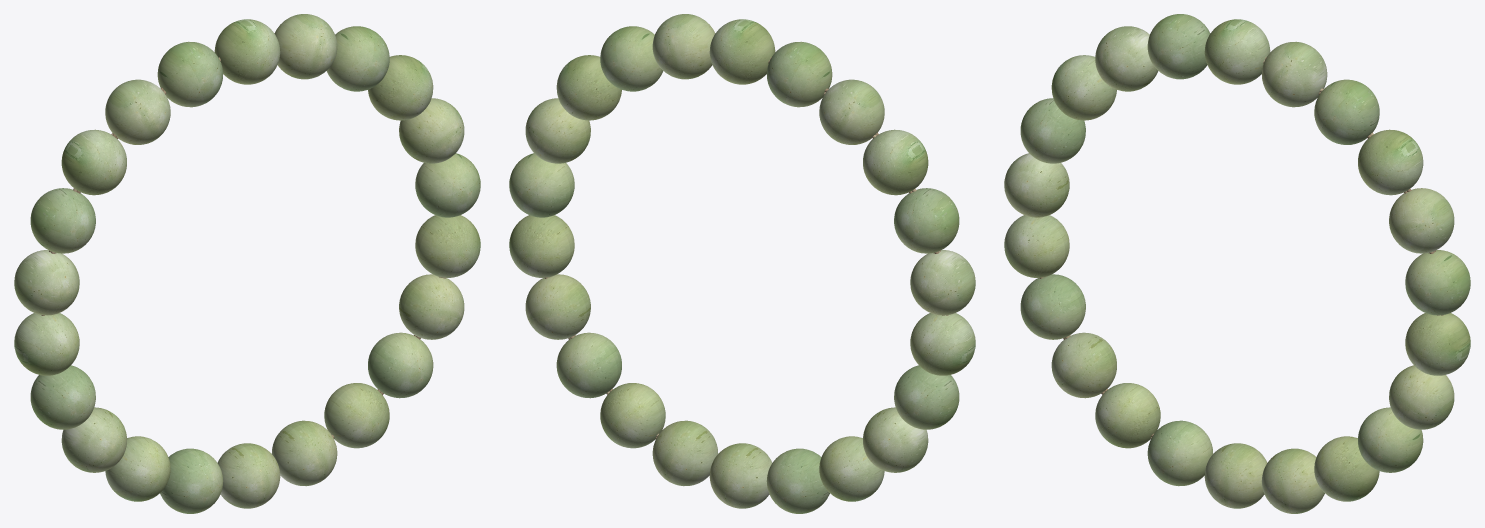
The model's file is green-aventurine.glb.
3 views of the same model, side by side, from view 1: azimuth 30°, elevation 25°; view 2: azimuth 150°, elevation 25°; view 3: azimuth 330°, elevation 25° (orthographic).
Visible parts, largest first — view 1: 10 green, 8 green, 9 green, 20 green, 21 green, 19 green, 11 green, 7 green, 22 green, 12 green, 6 green, 18 green (+10 smaller); view 2: 10 green, 8 green, 9 green, 20 green, 21 green, 19 green, 11 green, 7 green, 22 green, 12 green, 6 green, 18 green (+10 smaller); view 3: 14 green, 16 green, 15 green, 4 green, 3 green, 5 green, 13 green, 17 green, 2 green, 12 green, 18 green, 6 green (+10 smaller).
Boxes of the visible parts, x1,y1,x2,y2 form: 10 green: (105, 79, 170, 144); 8 green: (30, 188, 95, 253); 9 green: (61, 129, 126, 195); 20 green: (368, 332, 433, 398); 21 green: (324, 383, 389, 448); 19 green: (399, 274, 464, 339); 11 green: (157, 41, 223, 107); 7 green: (14, 250, 79, 315); 22 green: (271, 420, 337, 486); 12 green: (214, 19, 280, 84); 6 green: (14, 313, 79, 375); 18 green: (415, 215, 480, 277); 10 green: (819, 79, 884, 144); 8 green: (894, 188, 959, 253); 9 green: (863, 129, 928, 195); 20 green: (556, 332, 621, 398); 21 green: (600, 383, 665, 448); 19 green: (525, 274, 590, 339); 11 green: (766, 41, 832, 107); 7 green: (910, 250, 975, 315); 22 green: (652, 420, 718, 486); 12 green: (709, 19, 775, 84); 6 green: (910, 313, 975, 375); 18 green: (509, 215, 574, 277); 14 green: (1314, 79, 1379, 144); 16 green: (1389, 188, 1454, 253); 15 green: (1358, 129, 1423, 195); 4 green: (1051, 332, 1116, 398); 3 green: (1095, 383, 1160, 448); 5 green: (1020, 274, 1085, 339); 13 green: (1261, 41, 1327, 107); 17 green: (1405, 250, 1470, 315); 2 green: (1147, 420, 1213, 486); 12 green: (1204, 19, 1270, 84); 18 green: (1405, 313, 1470, 375); 6 green: (1004, 215, 1069, 277).
Size of the model in its own units: 0.0645 by 0.0651 by 0.008.
Materials: 4 (3 with a texture image).
